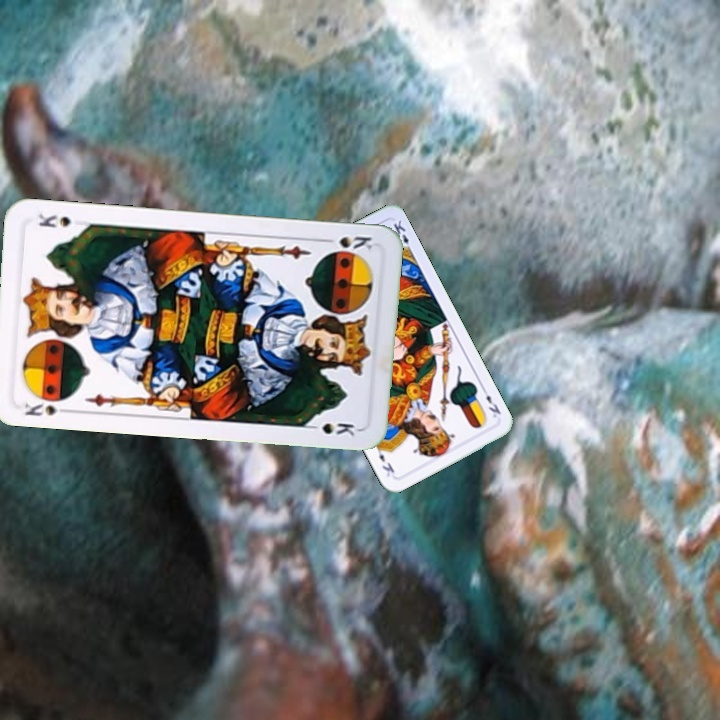EK: (478, 384, 504, 421)
SK: (318, 232, 377, 253), (20, 398, 74, 419)
